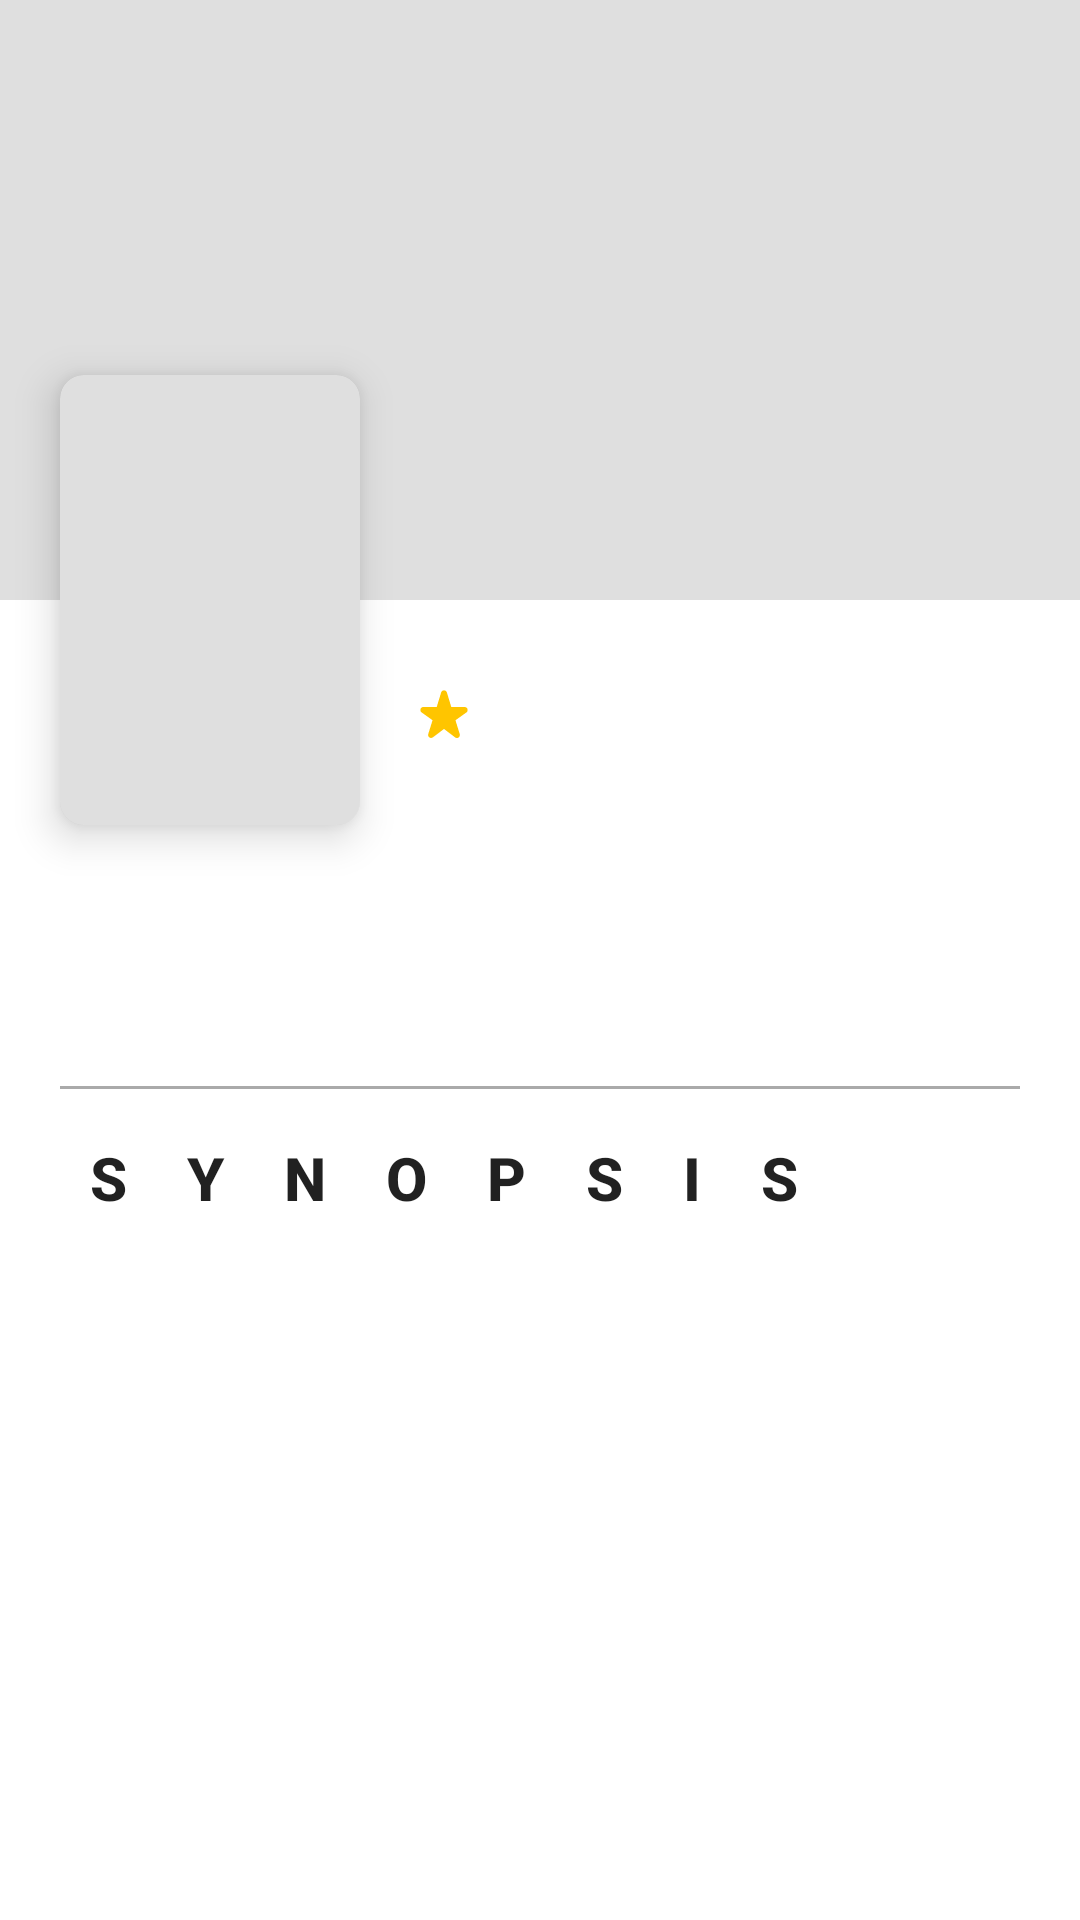

Point at icon controls on the screen. Image size 1080 x 1920, points as point (x, y).
rating: point (444, 714)
